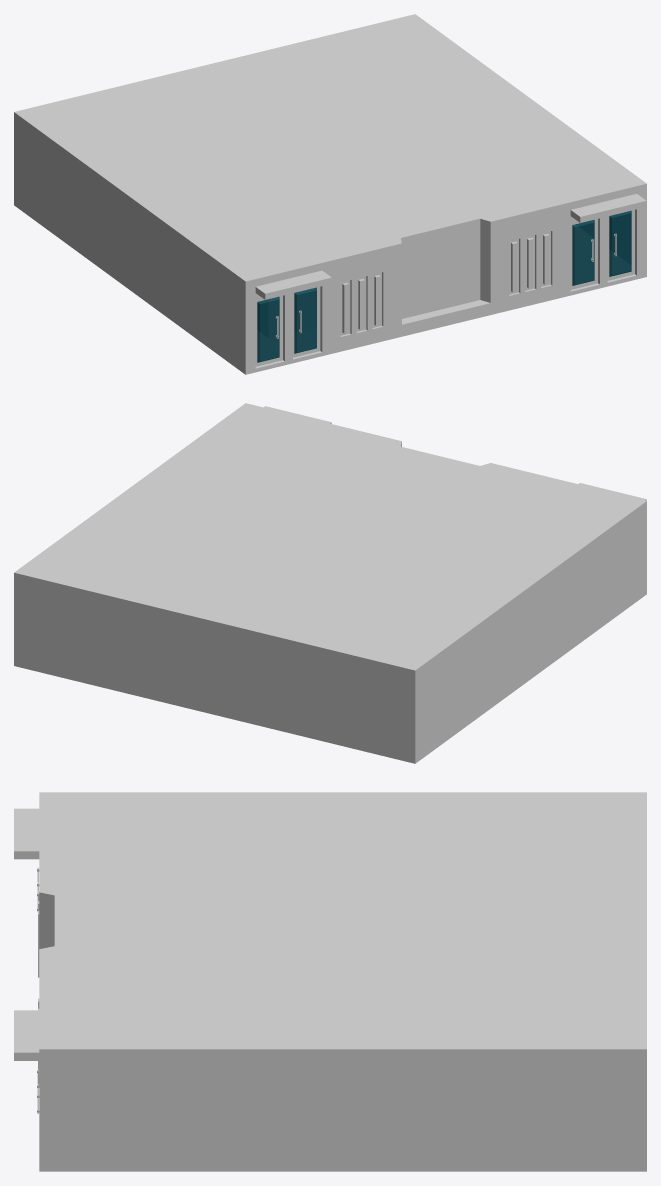
Rendered from building_office_03_base.fbx.
The picture shows the model from 3 angles, top to bottom: view 1: azimuth 30°, elevation 25°; view 2: azimuth 150°, elevation 25°; view 3: azimuth 270°, elevation 25°; orthographic projection. The views are drawn at different scales.
Parts seen in each view (by area): view 1: building_office_03_base, building_office_03_glass; view 2: building_office_03_base; view 3: building_office_03_base.
Boxes of the visible parts, x1=… form: building_office_03_base: x1=14, y1=14, x2=646, y2=374; building_office_03_glass: x1=257, y1=210, x2=631, y2=362; building_office_03_base: x1=14, y1=403, x2=646, y2=763; building_office_03_base: x1=14, y1=792, x2=646, y2=1171.
Bounding box in the file's own units: 1800 × 400 × 1875.
